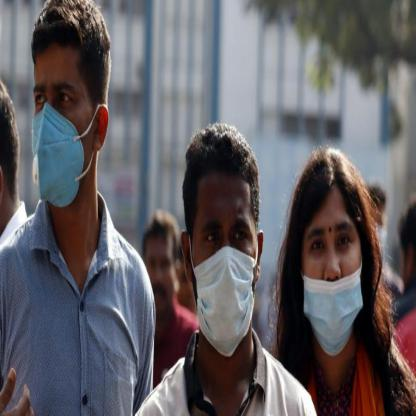Wearing_Mask: (186, 171, 256, 362), (30, 32, 93, 222), (297, 208, 368, 355)
